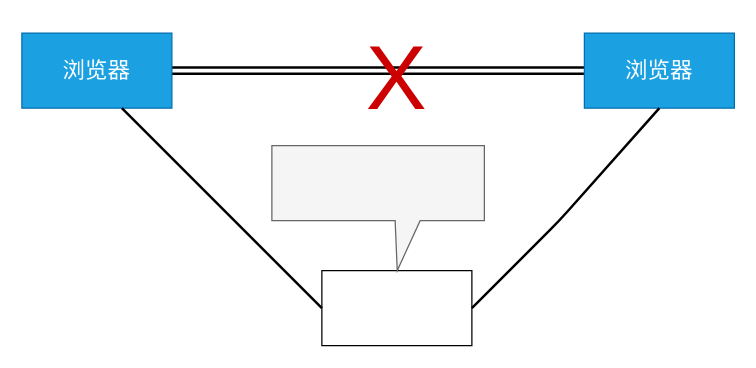
This 756x368 diagram has some shape labels left out. Here are the shapes that lost their labels. From the top down, the centre of each, then its label:
At (377,207): "窃取/伪造/篡改".
At (396,307): "中间人".
